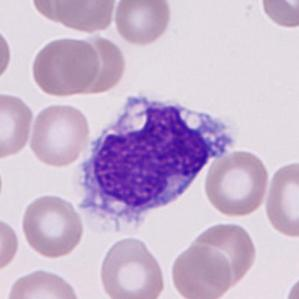Monocyte: (66, 86, 241, 234)
RBC: (183, 218, 259, 289), (202, 146, 270, 219), (19, 191, 87, 260), (96, 234, 168, 299), (28, 100, 93, 170), (62, 32, 131, 96), (29, 34, 98, 98), (168, 243, 233, 299), (112, 0, 175, 47), (263, 158, 298, 240), (4, 266, 82, 299), (0, 90, 35, 160), (50, 0, 118, 34), (29, 0, 97, 27), (0, 214, 22, 275), (257, 0, 299, 31), (0, 22, 14, 85), (282, 270, 299, 299), (0, 156, 5, 214)
